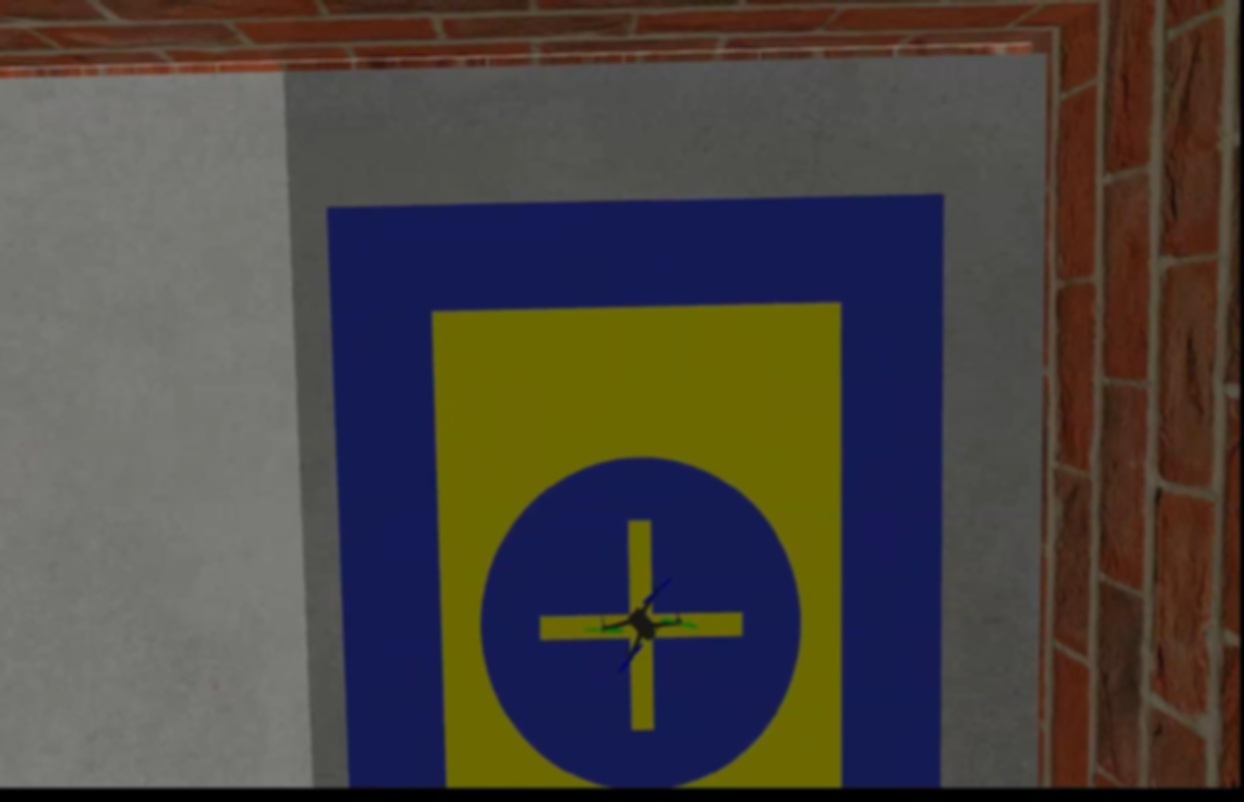large_base: (326, 199, 942, 789)
